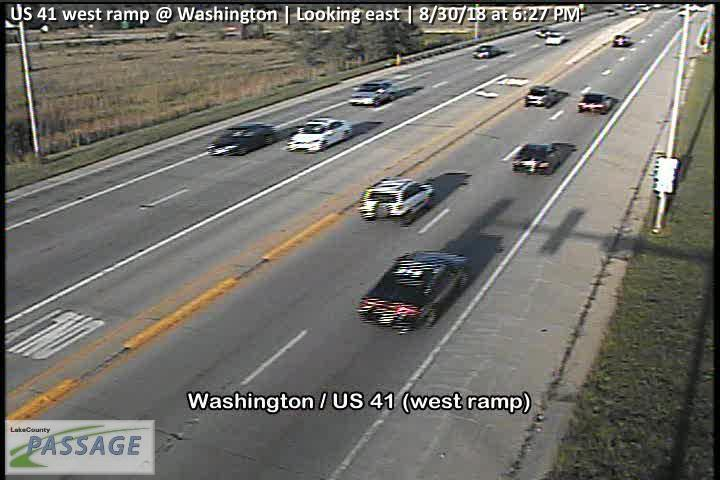SUV: (360, 177, 434, 222), (524, 85, 560, 108), (545, 30, 566, 45), (613, 34, 630, 47)
Sedan: (355, 250, 472, 329), (285, 117, 353, 155), (208, 122, 277, 157), (511, 142, 572, 174), (350, 79, 400, 107), (578, 93, 614, 116), (471, 44, 500, 59)
